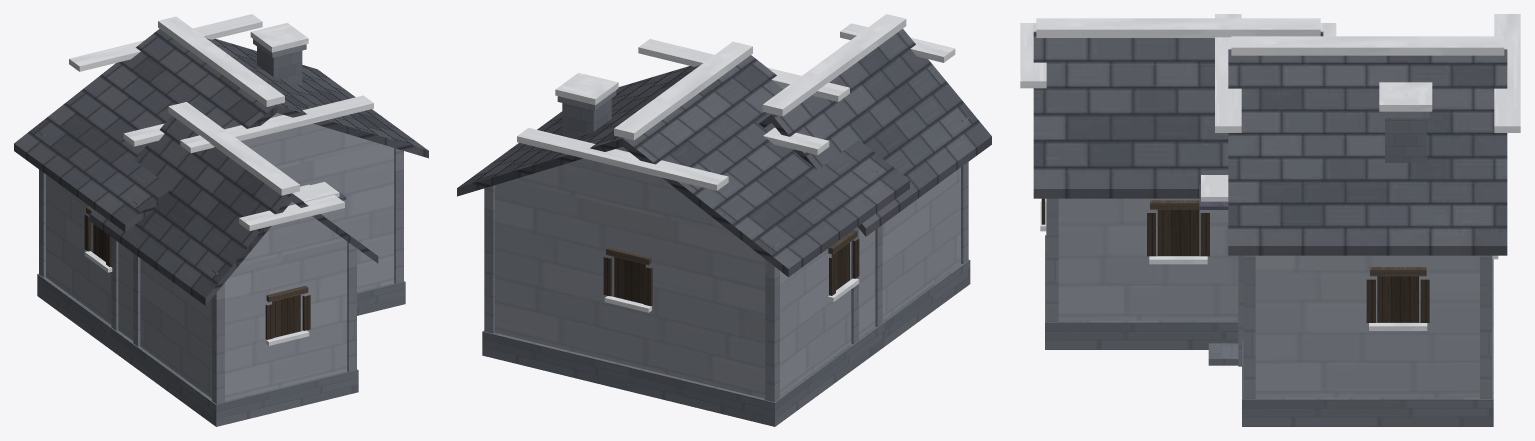
The model's file is ae_snow_stone_medium_court_lod0.glb.
3 renders of one model, left to right at view 1: azimuth 30°, elevation 25°; view 2: azimuth 150°, elevation 25°; view 3: azimuth 270°, elevation 25°, orthographic. The views are drawn at different scales.
Parts seen in each view (by area): view 1: ae_snow_stone_medium_court_lod0; view 2: ae_snow_stone_medium_court_lod0; view 3: ae_snow_stone_medium_court_lod0.
Boxes of the visible parts, x1=… form: ae_snow_stone_medium_court_lod0: x1=14, y1=14, x2=428, y2=426; ae_snow_stone_medium_court_lod0: x1=457, y1=14, x2=991, y2=426; ae_snow_stone_medium_court_lod0: x1=1020, y1=14, x2=1520, y2=426.
Size of the model in its own units: 5.8 by 4.41 by 6.6.
1 material, 1 textured.
